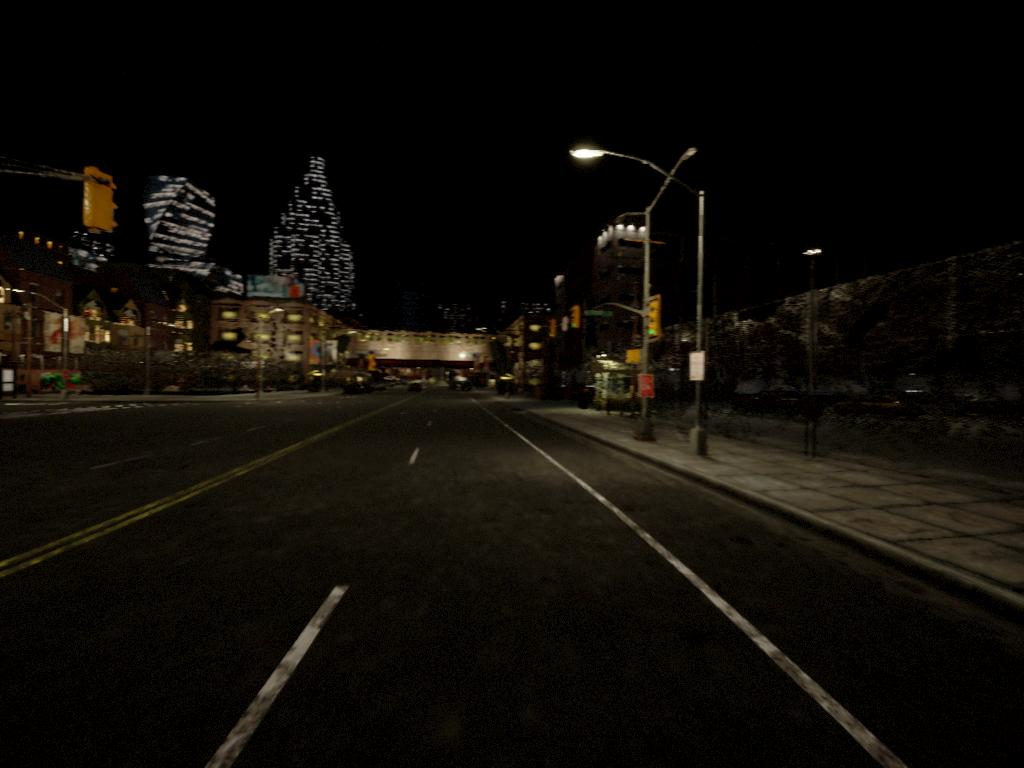traffic_light: (82, 168, 119, 233), (646, 301, 664, 341), (569, 305, 583, 330), (549, 319, 558, 340)
